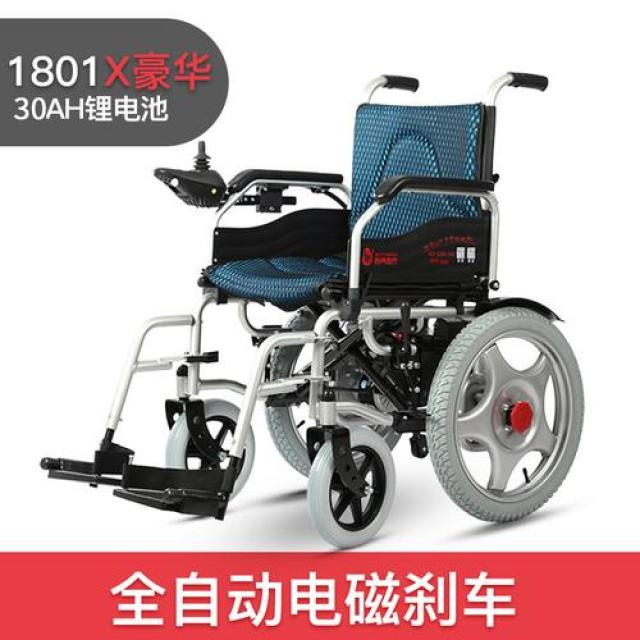wheelchairs: (39, 76, 597, 552)
